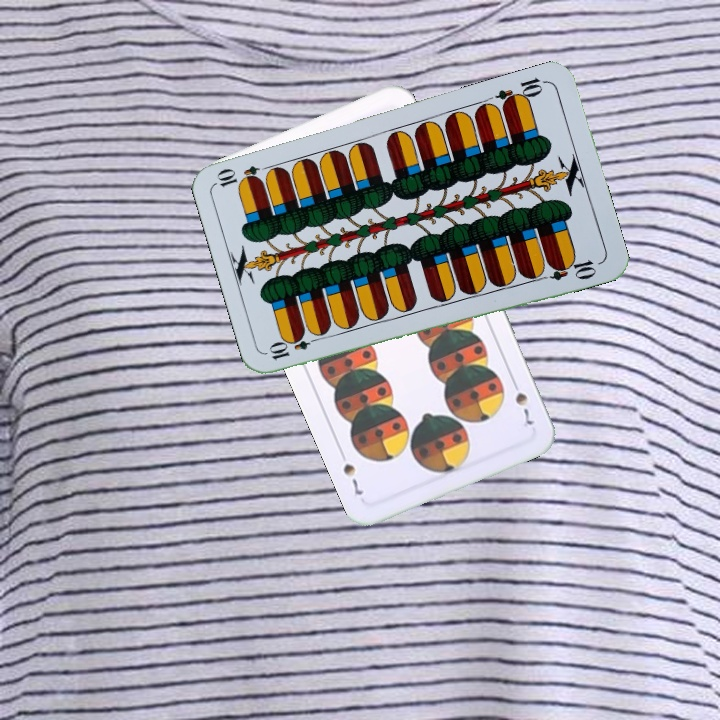E10: (492, 73, 550, 111), (265, 331, 323, 363)
S7: (507, 374, 535, 428)
